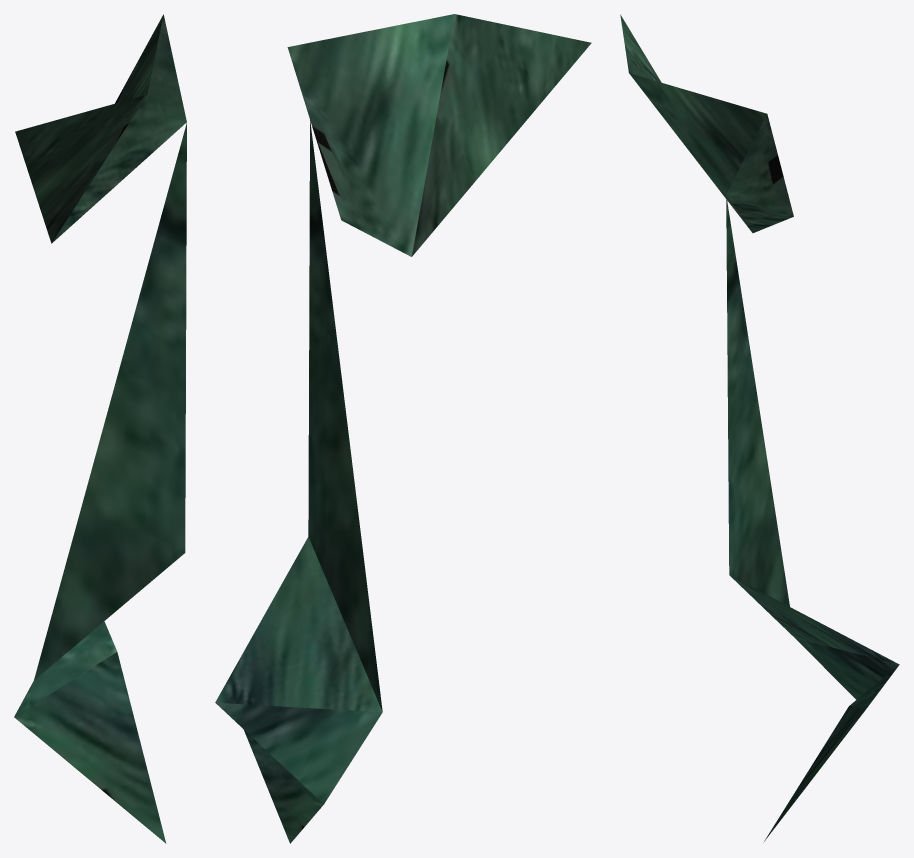
File: Tile_+000_+000.gltf
3 views of the same model, side by side, from view 1: azimuth 30°, elevation 25°; view 2: azimuth 150°, elevation 25°; view 3: azimuth 270°, elevation 25° (orthographic). The views are drawn at different scales.
Visible parts, largest first — view 1: default; view 2: default; view 3: default.
Boxes of the visible parts, x1,y1,x2,y2 form: default: (14, 14, 186, 843); default: (215, 14, 591, 843); default: (620, 14, 899, 841).
Size of the model in its own units: 6.14 by 20.96 by 7.27.
1 material, 1 textured.
